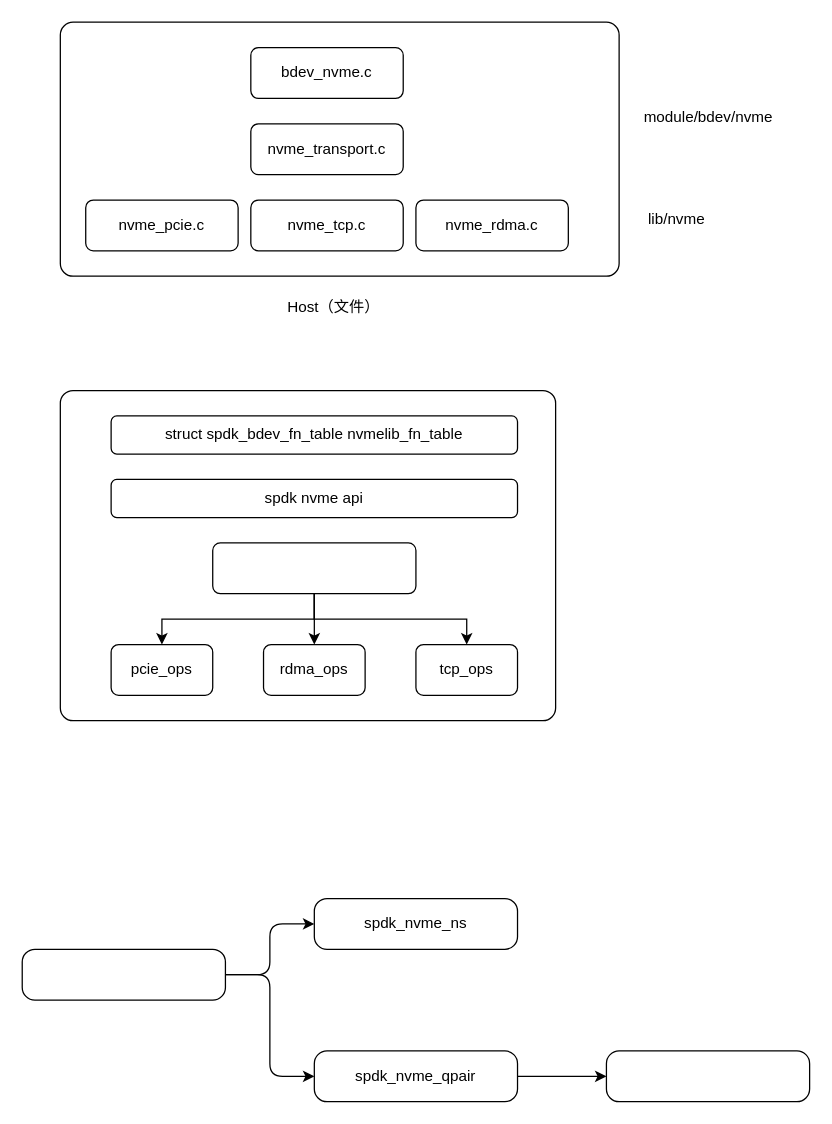
The diagram is 832 pixels wide and 1124 high, and some of its shapes have lost their labels. Each missing label, with the centre of its shape:
nvme_request: the point at 707,1076
spdk_nvme_ctrlr: the point at 123,974
spdk_nvme_transport_ops: the point at 313,568
